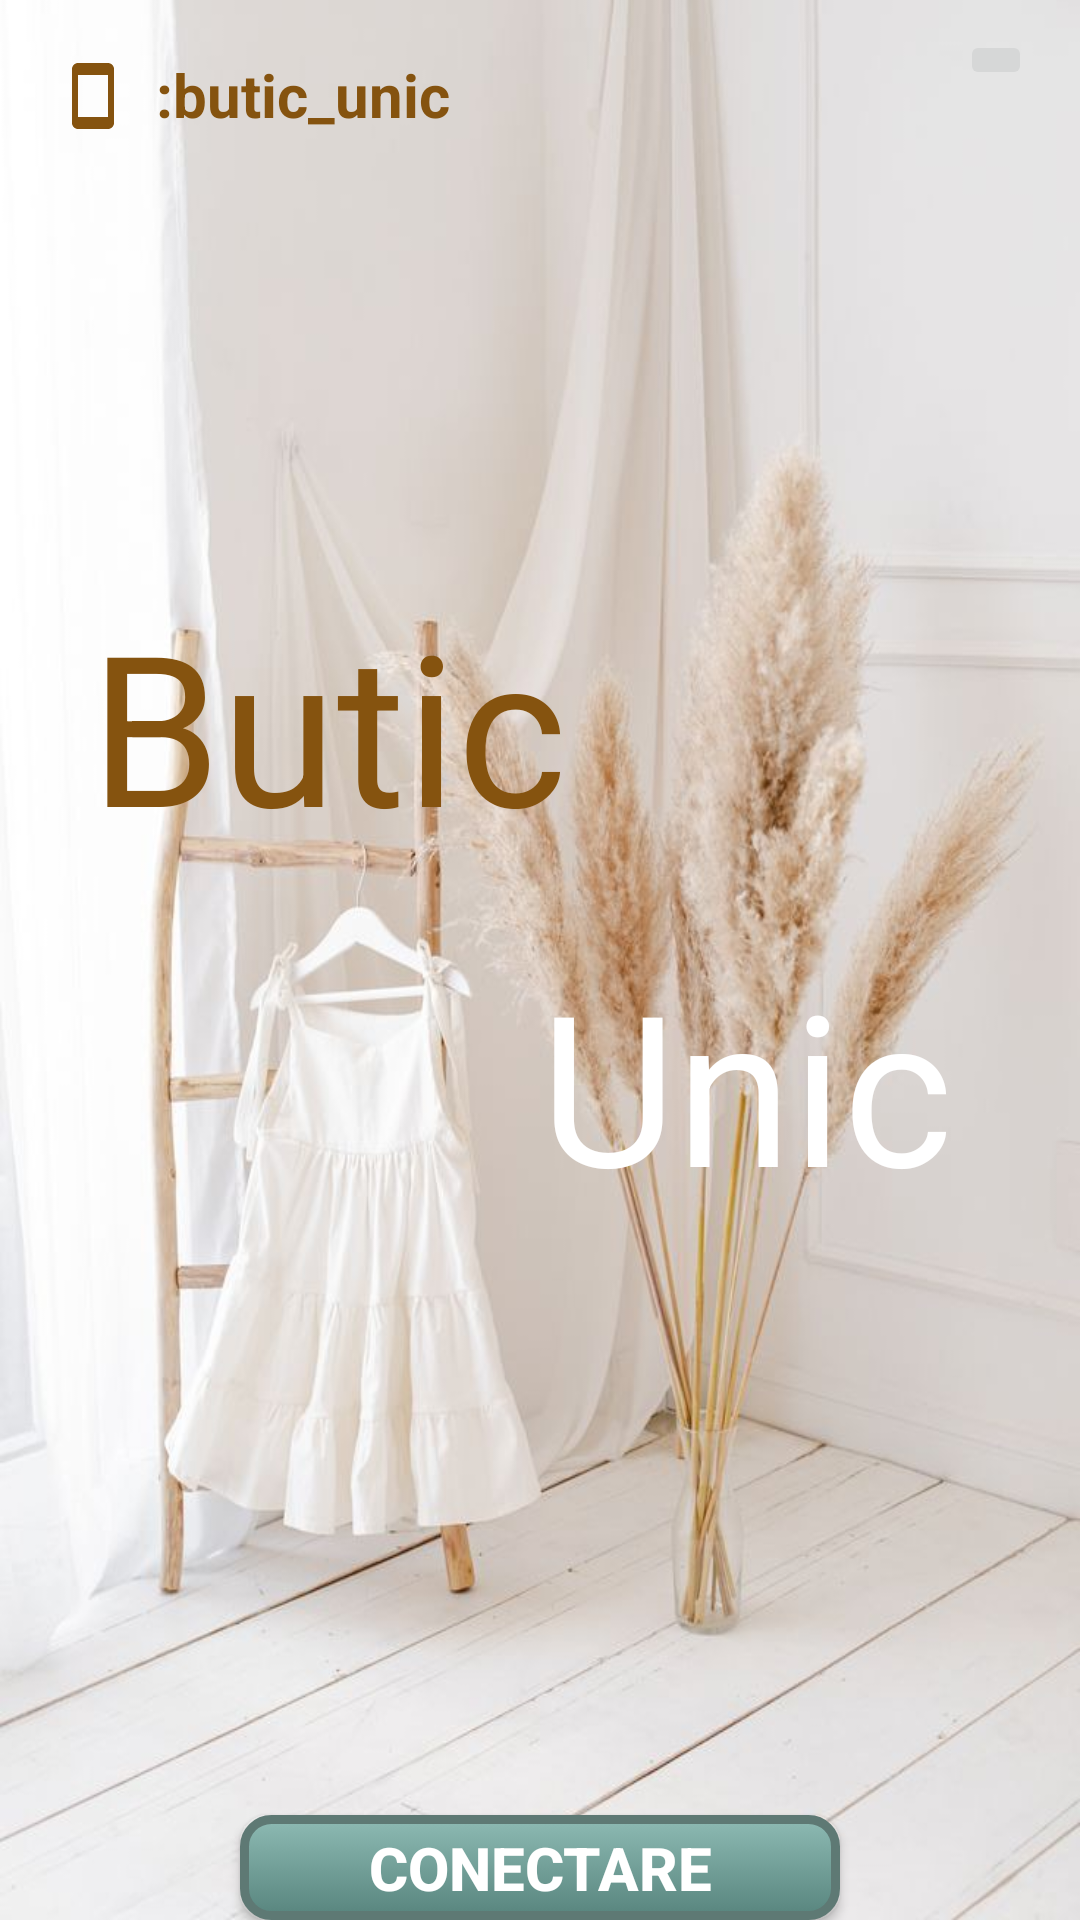

Where icons sit on this 1080w x 1920h app screen, as (x1, y1, x2, y2):
smartphone: (72, 63, 114, 129)
